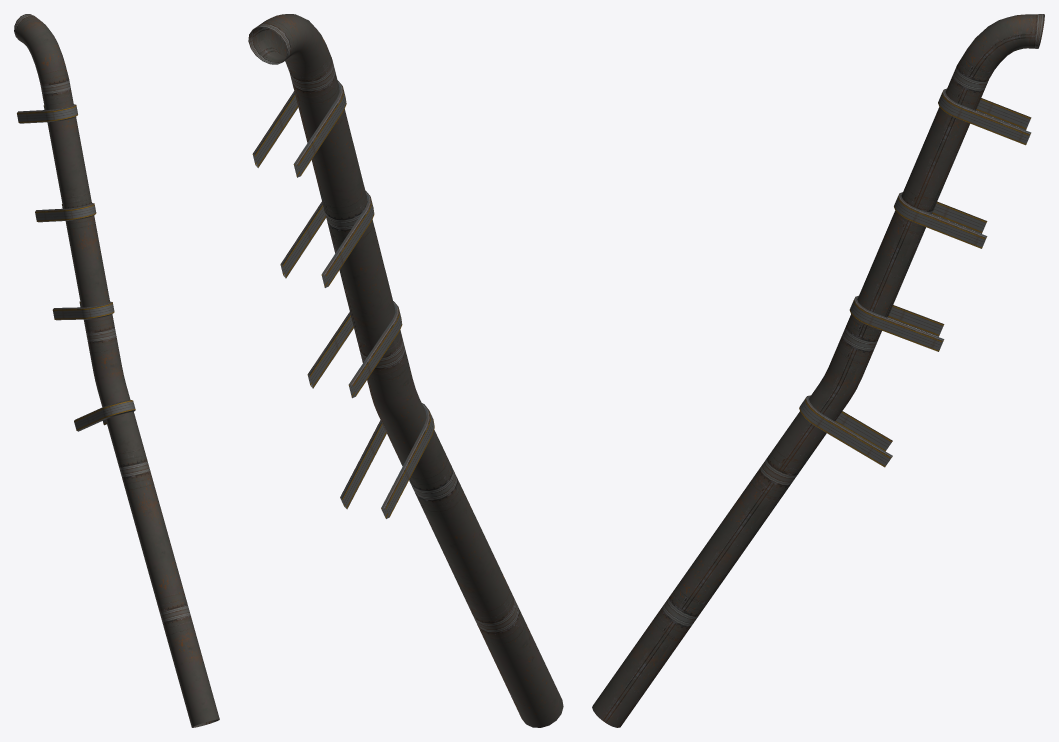
Rendered from Wall1_Pipe1.fbx.
3 views of the same model, side by side, from view 1: azimuth 30°, elevation 25°; view 2: azimuth 150°, elevation 25°; view 3: azimuth 270°, elevation 25° (orthographic). The views are drawn at different scales.
Visible parts, largest first — view 1: polySurface158; view 2: polySurface158; view 3: polySurface158.
Part boxes in pixels (bbox=[...]): polySurface158: bbox=[14, 14, 219, 727]; polySurface158: bbox=[248, 14, 563, 727]; polySurface158: bbox=[592, 14, 1044, 727].
Bounding box in the file's own units: 172 × 3235 × 1871.
